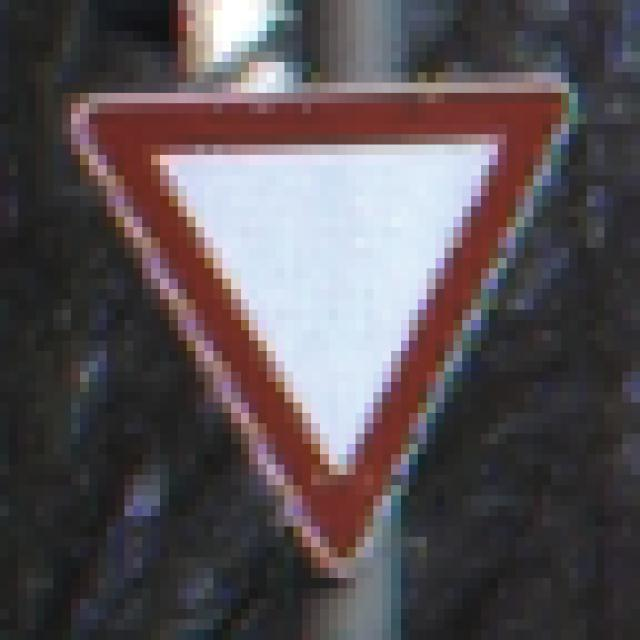Give Way: (63, 53, 588, 590)
